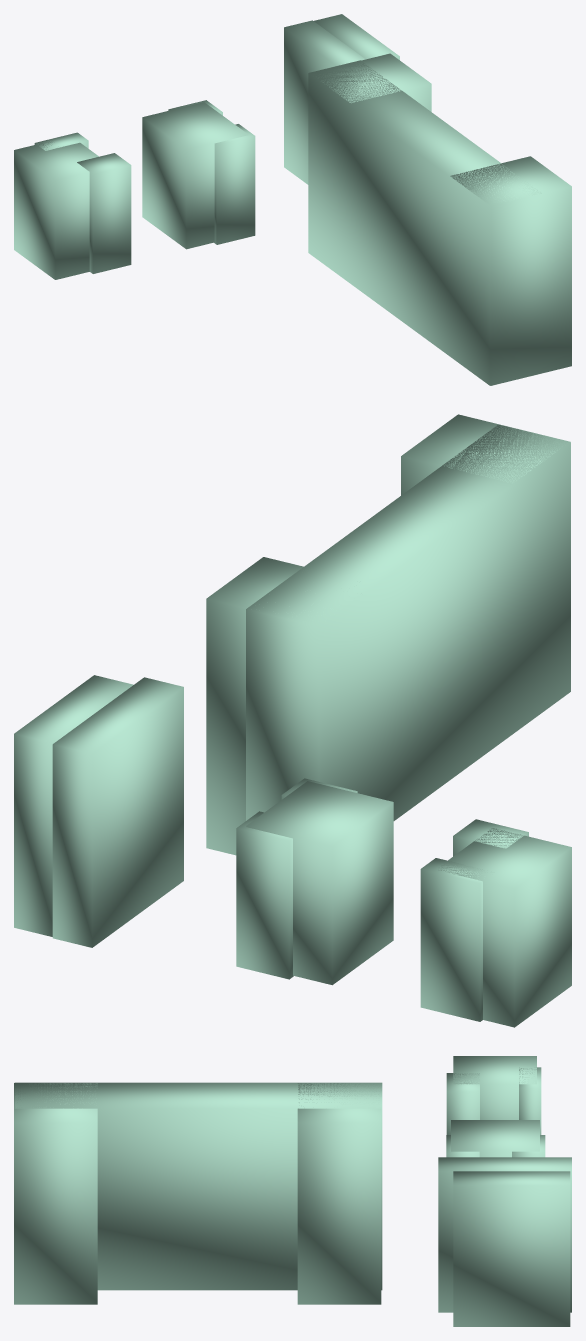
The model's file is jwt.gltf.
3 views of the same model, one above another, from view 1: azimuth 30°, elevation 25°; view 2: azimuth 150°, elevation 25°; view 3: azimuth 270°, elevation 25° (orthographic). The views are drawn at different scales.
Visible parts, largest first — view 1: Box001, Box002, Box006, Box009, Box004, Box010, Box008, Box003, Box005, Box011; view 2: Box001, Box004, Box006, Box009, Box003, Box005, Box011, Box007, Box002, Box010; view 3: Box001, Box005, Box003, Box002, Box004, Box009, Box006, Box010, Box011.
Part boxes in pixels (x1,y1,x2,y2): Box001: (308,60,541,385); Box002: (450,156,571,385); Box006: (142,102,248,249); Box009: (14,141,98,279); Box004: (284,20,365,184); Box010: (77,153,131,273); Box008: (214,124,255,244); Box003: (315,53,431,111); Box005: (314,14,399,59); Box011: (34,132,88,150); Box001: (246,424,570,820); Box004: (52,677,183,947); Box006: (246,781,393,985); Box009: (438,828,571,1027); Box003: (206,557,361,855); Box005: (14,675,133,936); Box011: (420,858,487,1021); Box007: (236,811,293,979); Box002: (401,414,570,495); Box010: (453,819,528,856); Box001: (14,1082,382,1290); Box005: (453,1171,570,1326); Box003: (297,1083,381,1304); Box002: (14,1083,97,1304); Box004: (438,1157,571,1312); Box009: (453,1056,536,1119); Box006: (451,1120,539,1157); Box010: (446,1073,479,1134); Box011: (519,1067,541,1134).
Size of the model in its own units: 2842 by 1425 by 3943.
